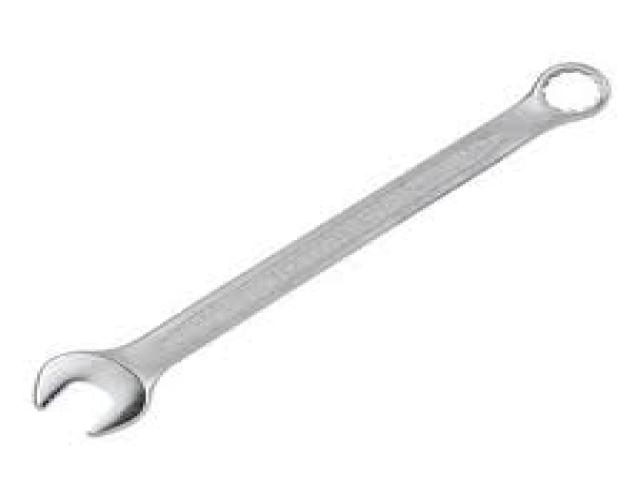Wrench: (35, 62, 610, 435)
